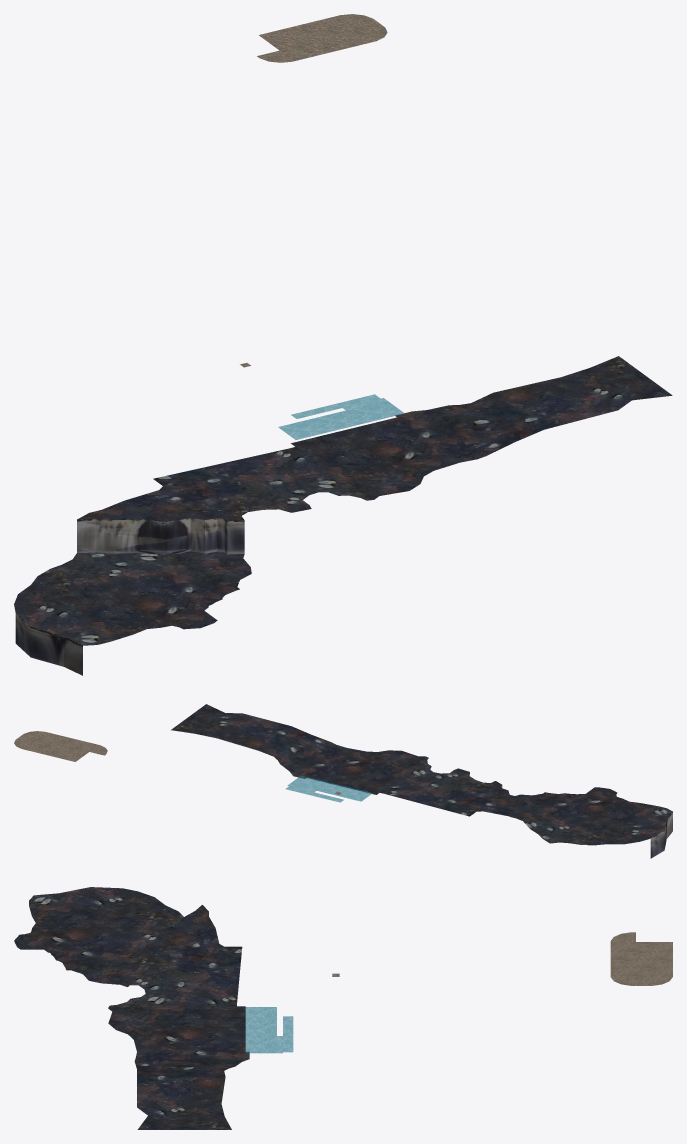
File: cascada.glb
3 renders of one model, top to bottom at view 1: azimuth 30°, elevation 25°; view 2: azimuth 150°, elevation 25°; view 3: azimuth 270°, elevation 25°, orthographic. The views are drawn at different scales.
Visible parts, largest first — view 1: 38611_fb1eb2, 38611_5dc42b, 4781_e12faf, 30029_393cca; view 2: 38611_fb1eb2, 4781_e12faf, 30029_393cca, 38611_5dc42b; view 3: 38611_fb1eb2, 4781_e12faf, 30029_393cca.
Part boxes in pixels (box(x1,y1,x2,y2)): 38611_fb1eb2: box(14, 356, 672, 645); 38611_5dc42b: box(15, 517, 244, 675); 4781_e12faf: box(240, 14, 387, 367); 30029_393cca: box(278, 394, 404, 439); 38611_fb1eb2: box(171, 704, 672, 845); 4781_e12faf: box(14, 731, 341, 794); 30029_393cca: box(286, 775, 372, 802); 38611_5dc42b: box(501, 785, 672, 858); 38611_fb1eb2: box(14, 887, 249, 1129); 4781_e12faf: box(332, 932, 672, 985); 30029_393cca: box(245, 1007, 293, 1053).
Size of the model in its own units: 45.32 by 15.64 by 44.27.
4 materials, 4 textured.
